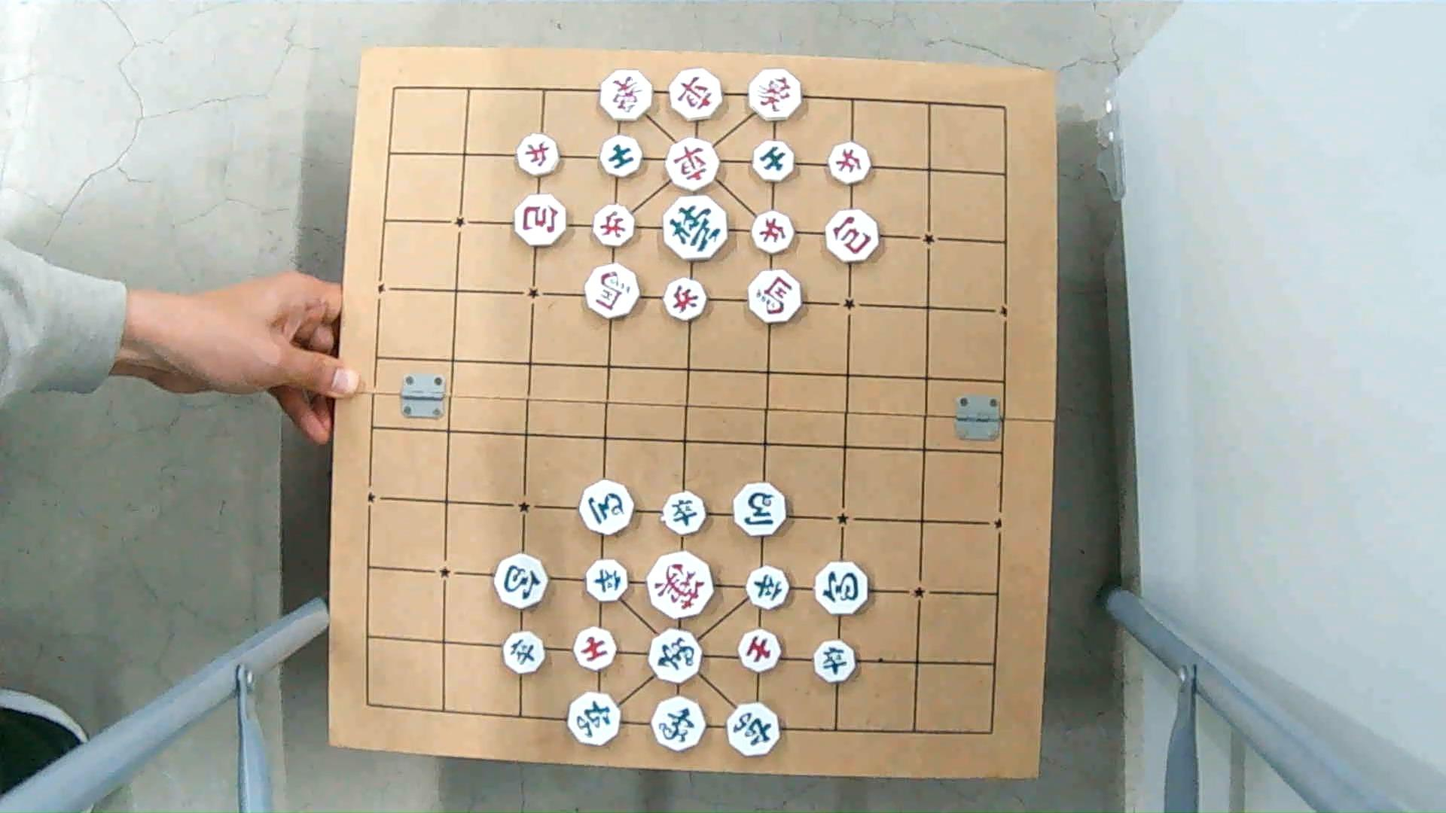cha_green: (564, 696, 623, 746), (723, 705, 782, 754)
cha_red: (664, 142, 722, 190), (668, 72, 725, 120)
jol_green: (660, 492, 706, 534), (746, 566, 789, 609), (501, 633, 547, 673), (811, 643, 858, 681), (584, 562, 631, 600)
jol_red: (661, 279, 710, 319), (590, 206, 638, 246), (514, 136, 563, 175), (752, 212, 795, 255), (828, 145, 874, 183)
ma_green: (729, 487, 789, 536), (580, 483, 637, 533)
ma_red: (583, 263, 641, 317), (743, 272, 804, 322)
po_green: (811, 564, 870, 614), (494, 557, 553, 607)
po_red: (822, 212, 883, 263), (514, 196, 569, 244)
sa_green: (752, 141, 797, 181), (597, 139, 645, 175)
sa_red: (573, 630, 621, 670), (735, 633, 782, 672)
sang_green: (649, 632, 706, 683), (649, 699, 706, 750)
sang_red: (746, 70, 807, 117), (600, 75, 659, 120)
wang_green: (661, 196, 730, 257)
wang_red: (645, 553, 718, 617)
